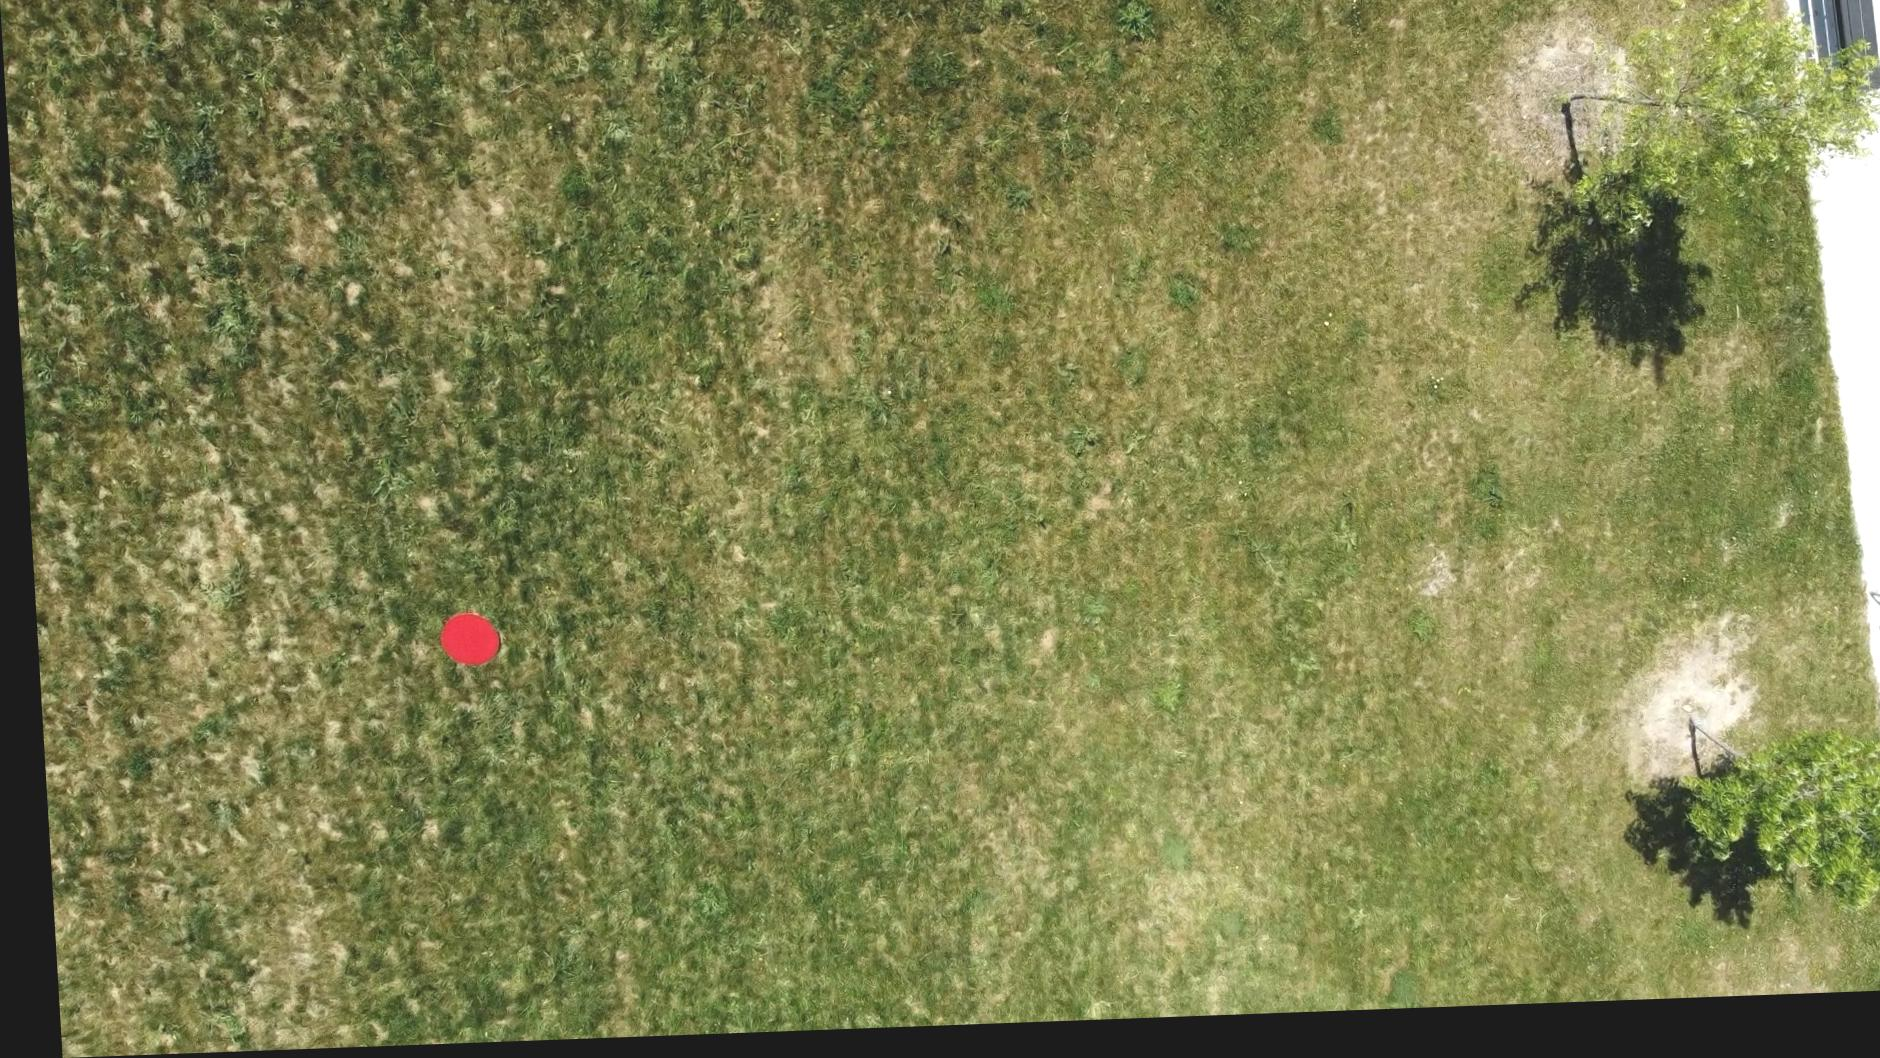Red: (427, 611, 497, 672)
